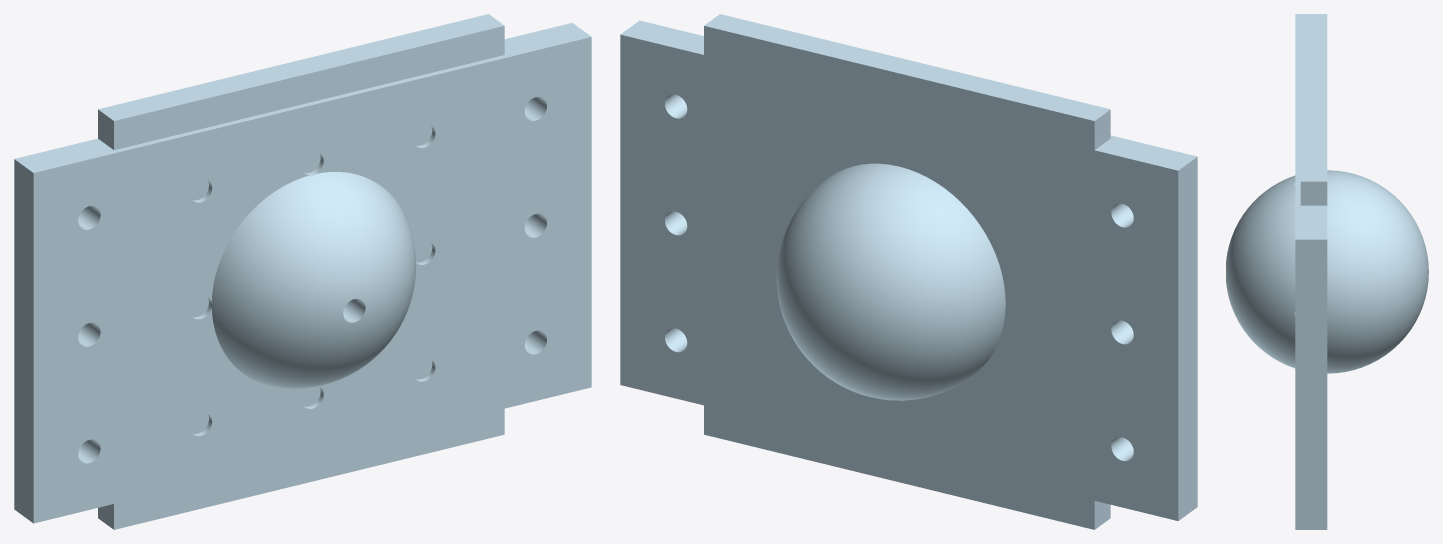
The picture shows the model from 3 angles, left to right: view 1: azimuth 30°, elevation 25°; view 2: azimuth 150°, elevation 25°; view 3: azimuth 270°, elevation 25°; orthographic projection. The views are drawn at different scales.
Parts seen in each view (by area): view 1: Part 1; view 2: Part 1; view 3: Part 1.
Part boxes in pixels (<box>): Part 1: <box>14,14,591,529</box>; Part 1: <box>620,14,1197,529</box>; Part 1: <box>1226,14,1428,529</box>.
Size of the model in its own units: 0.2 by 0.14 by 0.076.
